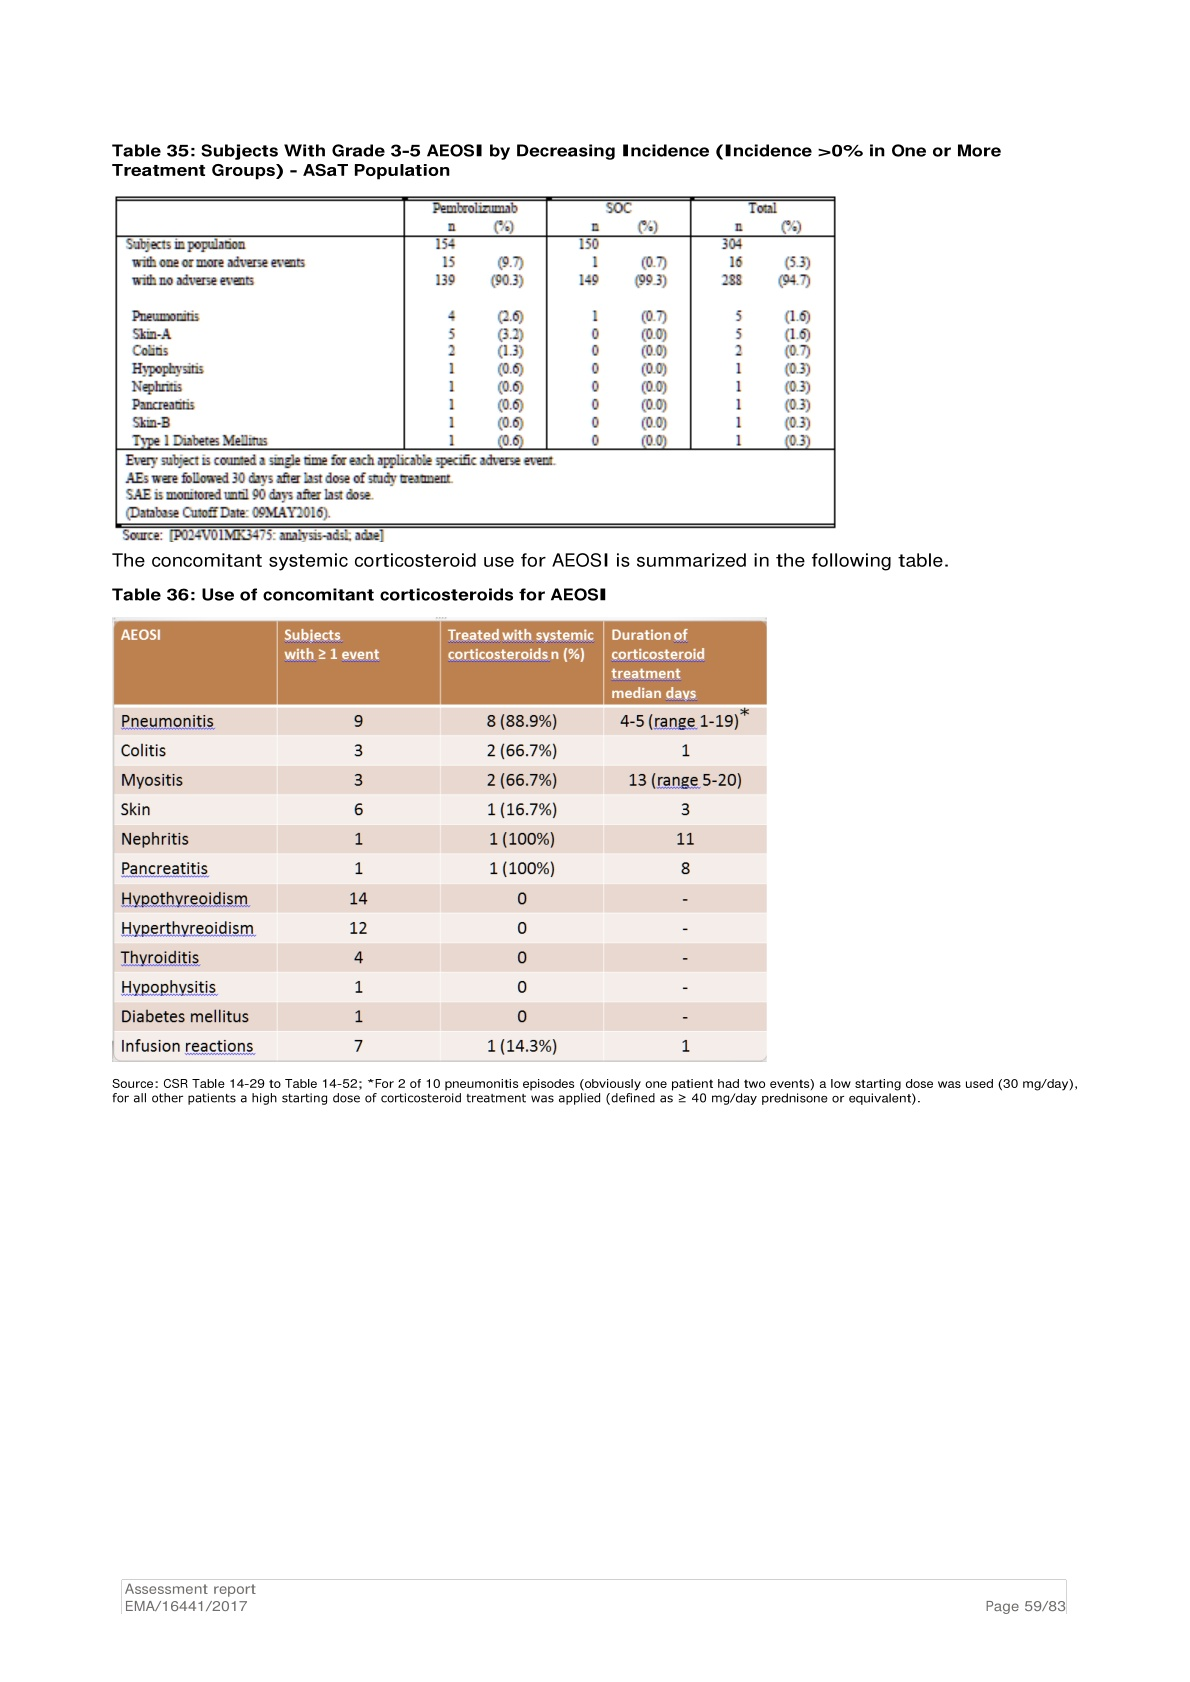full_lined: (112, 619, 768, 1063)
merged_cells: (115, 194, 836, 529)
